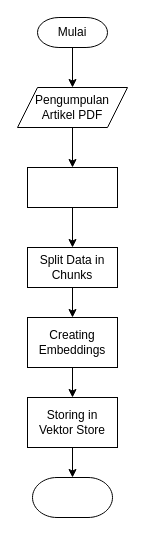
This 145x535 diagram has some shape labels left out. The box of each missing label's shape, as (x1, y1, x2, y2) in pixels:
Loaded File PDF: (26, 166, 118, 208)
Selesai: (32, 476, 112, 518)
